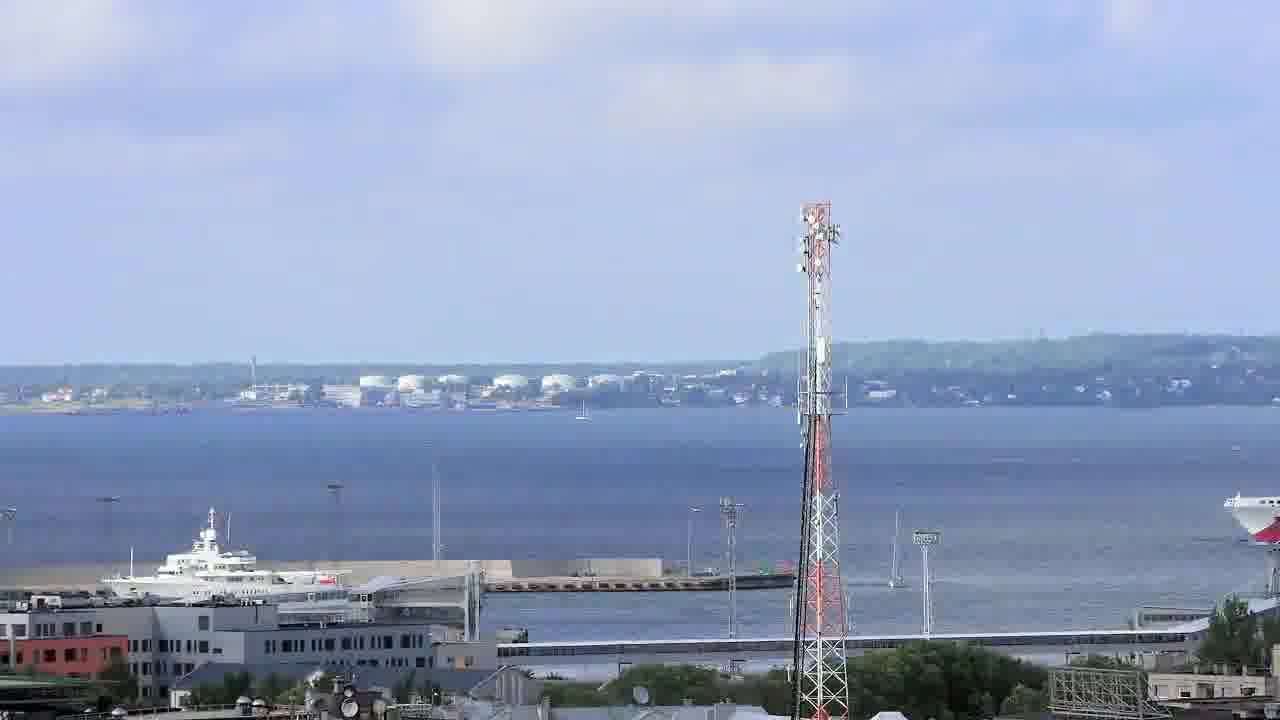type-0: (867, 534, 914, 595)
type-3: (96, 508, 381, 605)
